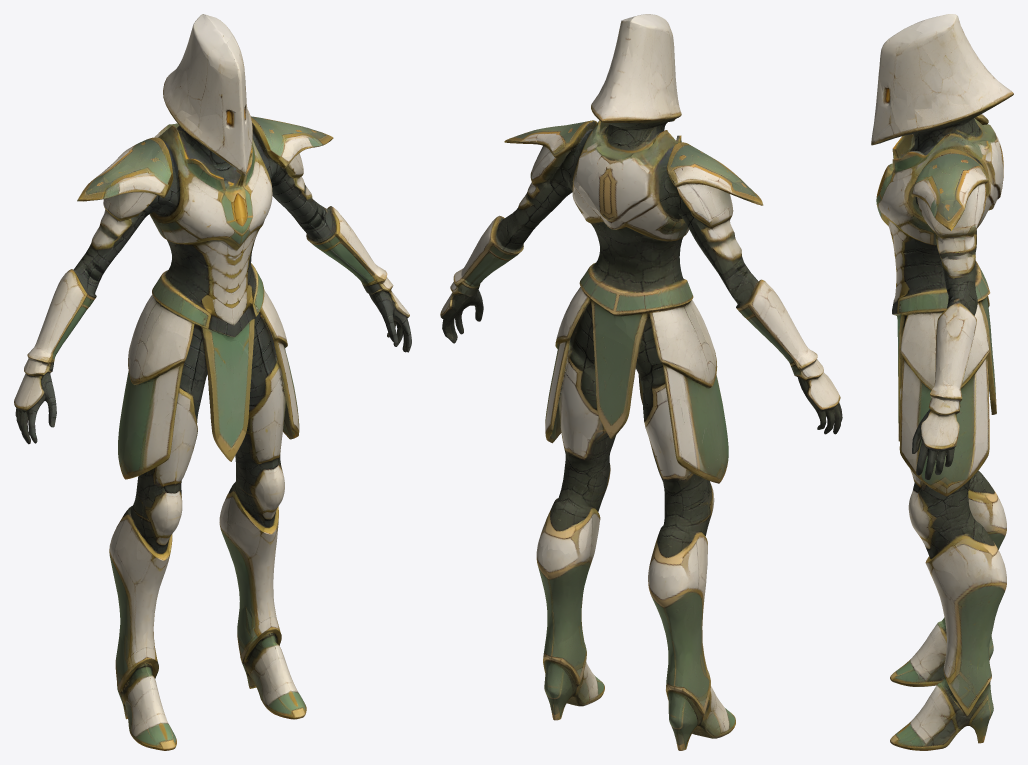
Rendered from white-vigil-player-rig-source-master.glb.
The picture shows the model from 3 angles, left to right: view 1: azimuth 30°, elevation 25°; view 2: azimuth 150°, elevation 25°; view 3: azimuth 270°, elevation 25°; orthographic projection.
Visible parts, largest first — view 1: Mesh_0; view 2: Mesh_0; view 3: Mesh_0.
Part boxes in pixels (box(x1,y1,x2,y2)): Mesh_0: box(14, 14, 411, 750); Mesh_0: box(440, 14, 842, 750); Mesh_0: box(871, 14, 1013, 750).
Bounding box in the file's own units: 1.11 × 1.9 × 0.3521.
1 material, 1 textured.
